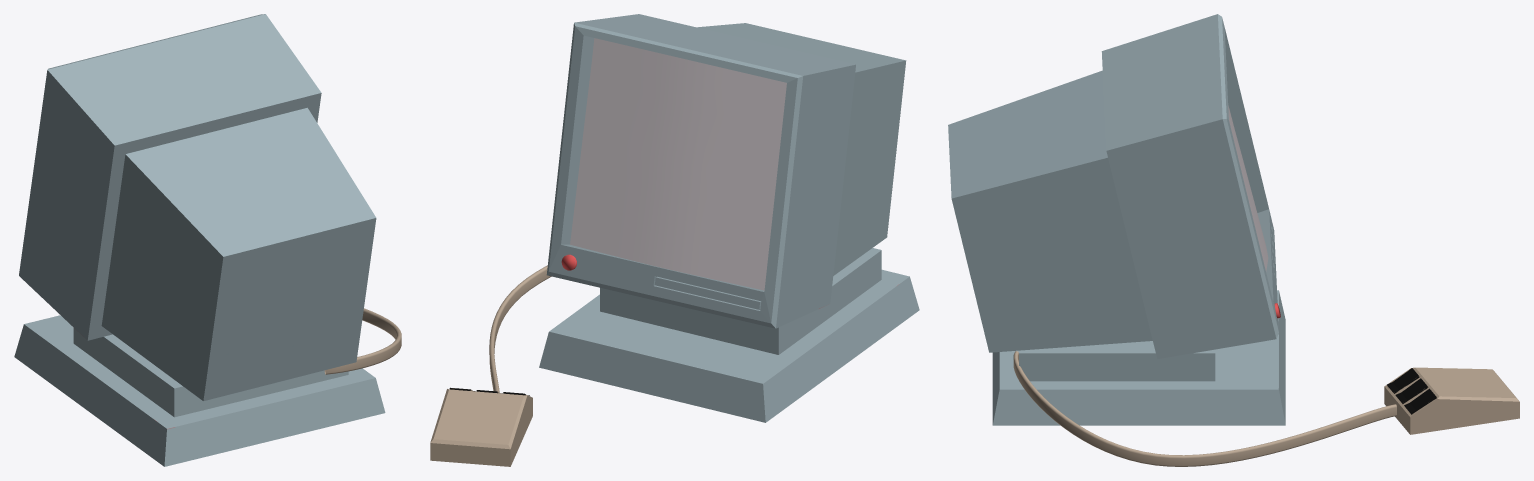
Rendered from monitor+mouse.glb.
3 renders of one model, left to right at view 1: azimuth 30°, elevation 25°; view 2: azimuth 150°, elevation 25°; view 3: azimuth 270°, elevation 25°, orthographic. The views are drawn at different scales.
Visible parts, largest first — view 1: monitor, mouse; view 2: monitor, display, mouse; view 3: monitor, mouse, display.
Part boxes in pixels (box(x1,y1,x2,y2)): monitor: box(14, 14, 385, 466); mouse: box(324, 308, 401, 374); monitor: box(539, 14, 919, 422); display: box(570, 38, 786, 290); mouse: box(430, 265, 551, 466); monitor: box(948, 14, 1285, 425); mouse: box(1013, 351, 1519, 466); display: box(1228, 105, 1268, 271).
Size of the model in its own units: 2.81 by 2.74 by 4.59.
3 materials, 2 textured.
